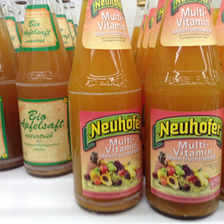juice: (146, 1, 222, 219), (67, 1, 145, 213), (14, 1, 73, 178)
